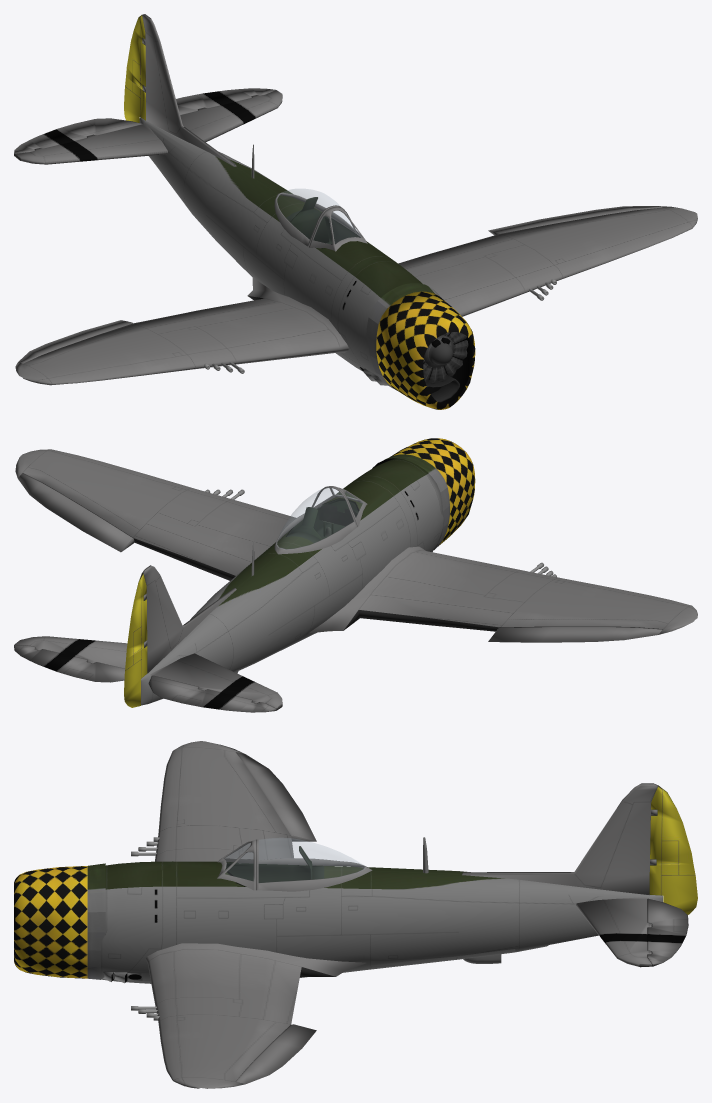
3 views of the same model, one above another, from view 1: azimuth 30°, elevation 25°; view 2: azimuth 150°, elevation 25°; view 3: azimuth 270°, elevation 25° (orthographic). The views are drawn at different scales.
Visible parts, largest first — view 1: airframe, glass, interior; view 2: airframe, glass, interior; view 3: airframe, glass, interior.
Boxes of the visible parts, x1,y1,x2,y2 form: airframe: [14, 14, 697, 409]; glass: [277, 189, 360, 243]; interior: [286, 197, 359, 244]; airframe: [14, 438, 697, 712]; glass: [277, 487, 362, 548]; interior: [286, 498, 358, 542]; airframe: [14, 741, 697, 1088]; glass: [224, 838, 365, 882]; interior: [226, 846, 324, 882].
Size of the model in its own units: 12.38 by 3.29 by 10.31.
Materials: 10 (5 with a texture image).
